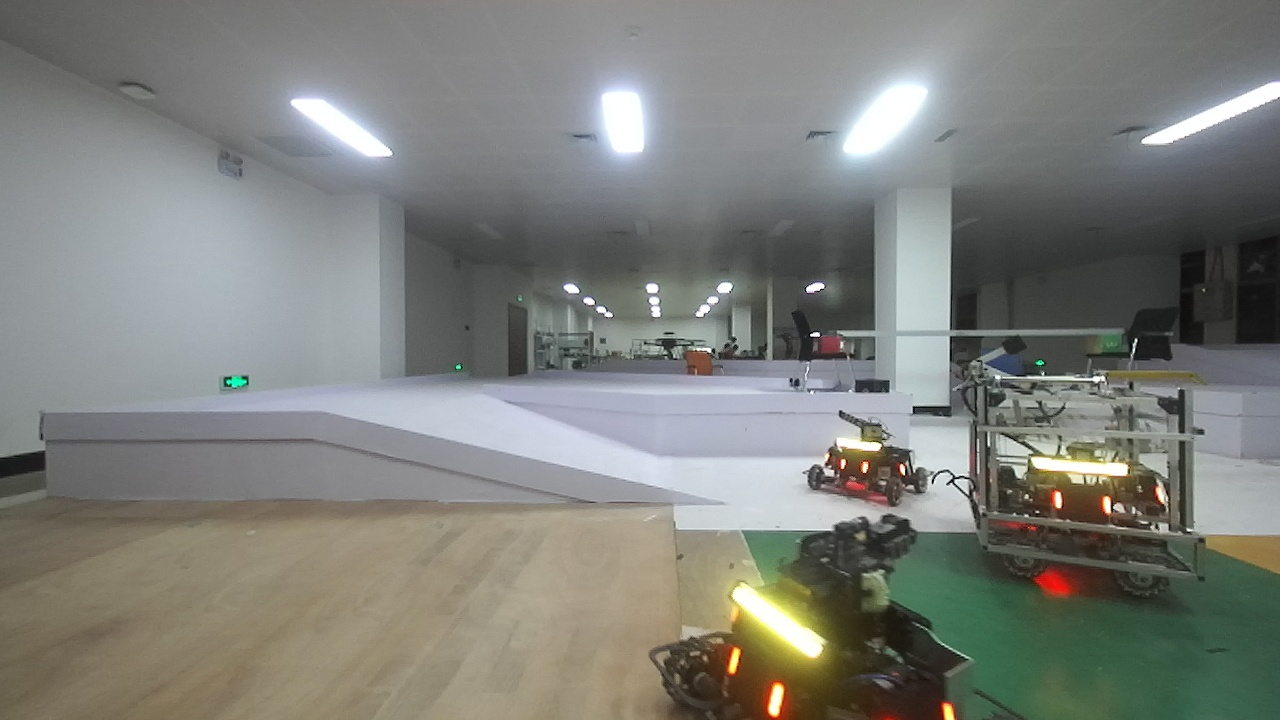car: (944, 349, 1223, 602), (638, 528, 967, 716), (799, 390, 930, 513)
